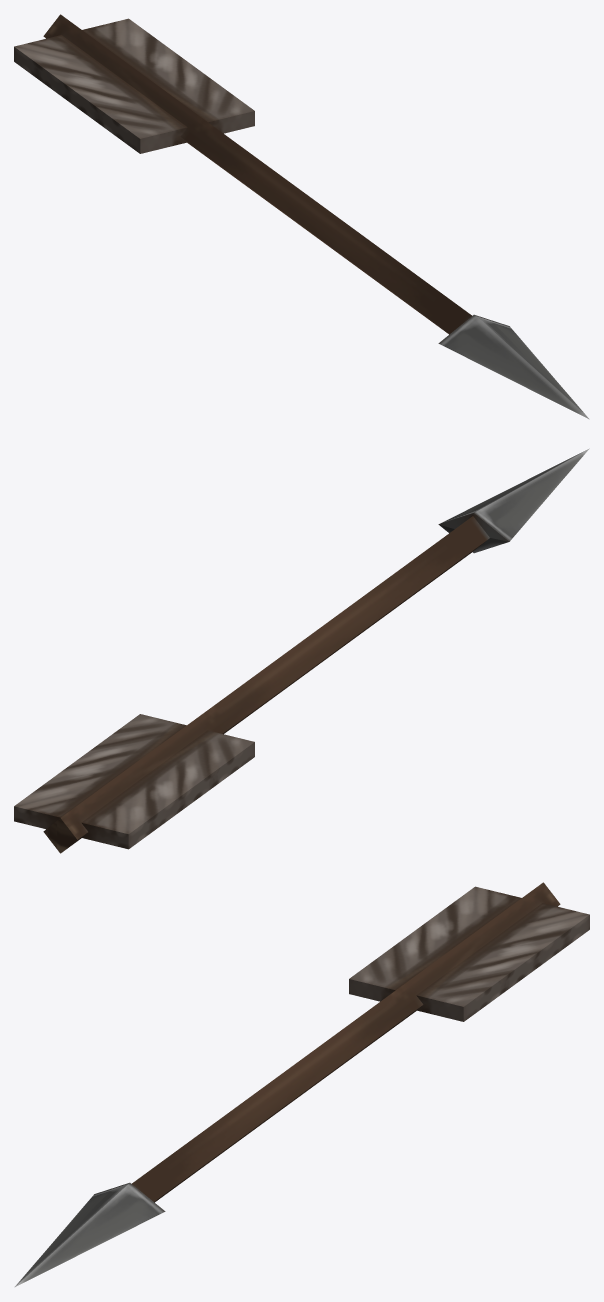
The model's file is ArrowMG.fbx.
3 renders of one model, top to bottom at view 1: azimuth 30°, elevation 25°; view 2: azimuth 150°, elevation 25°; view 3: azimuth 330°, elevation 25°, orthographic.
Parts seen in each view (by area): view 1: ArrowMG; view 2: ArrowMG; view 3: ArrowMG.
Boxes of the visible parts, <box> form: ArrowMG: <box>14,14,589,419</box>; ArrowMG: <box>14,448,589,853</box>; ArrowMG: <box>14,882,589,1287</box>.
Bounding box in the file's own units: 5.11 × 1.72 × 40.8.
Materials: 1 (1 with a texture image).
